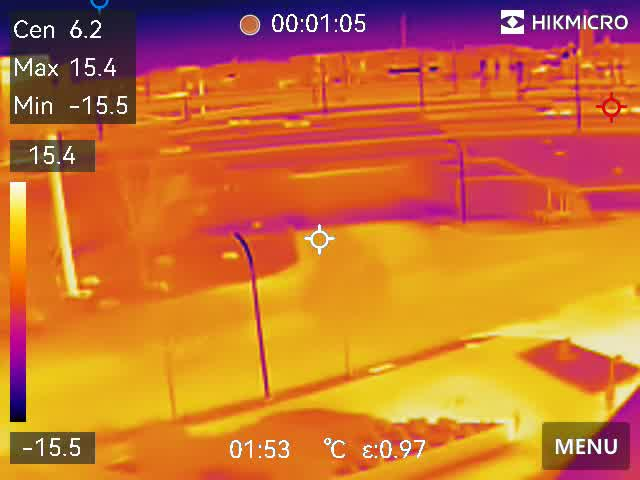vehicle: (275, 113, 315, 131), (156, 143, 197, 156), (224, 112, 252, 131)
